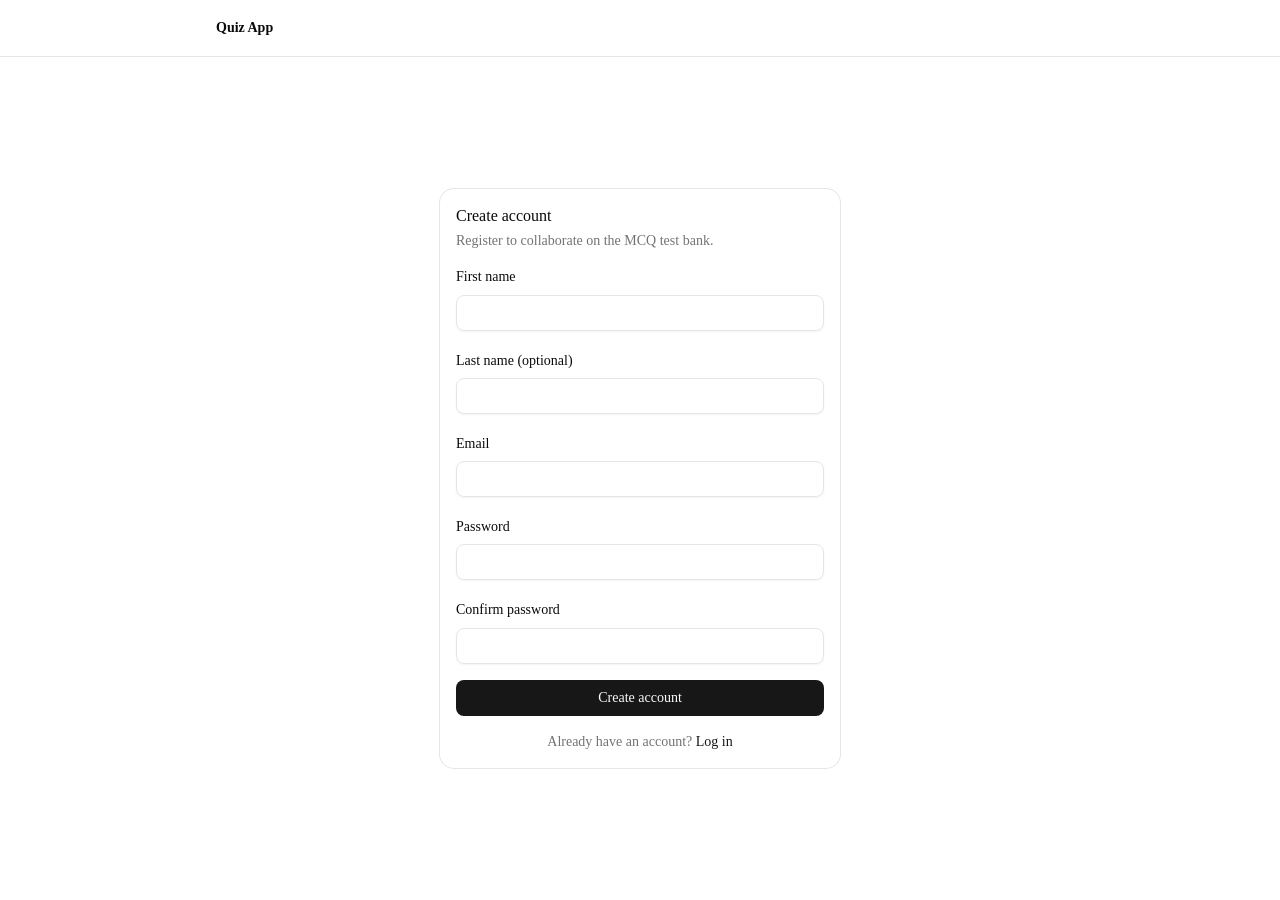
Test: RegisterForm › shows API error when registration fails
Type "Jane" into the field labelled "First name" at (640, 313), box [456,295,824,331]
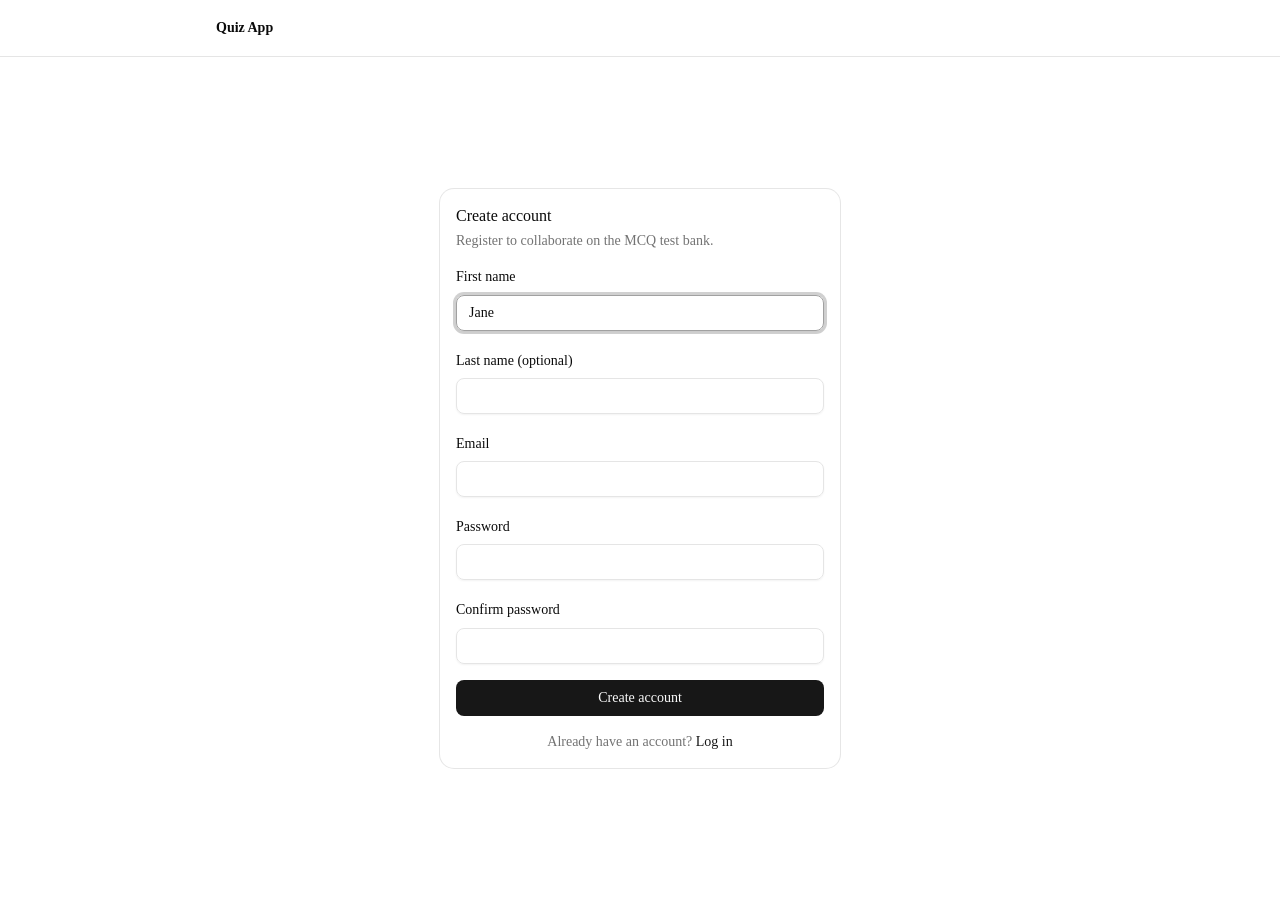
Type "jane@example.com" into the field labelled "Email" at (640, 479), box [456,461,824,497]
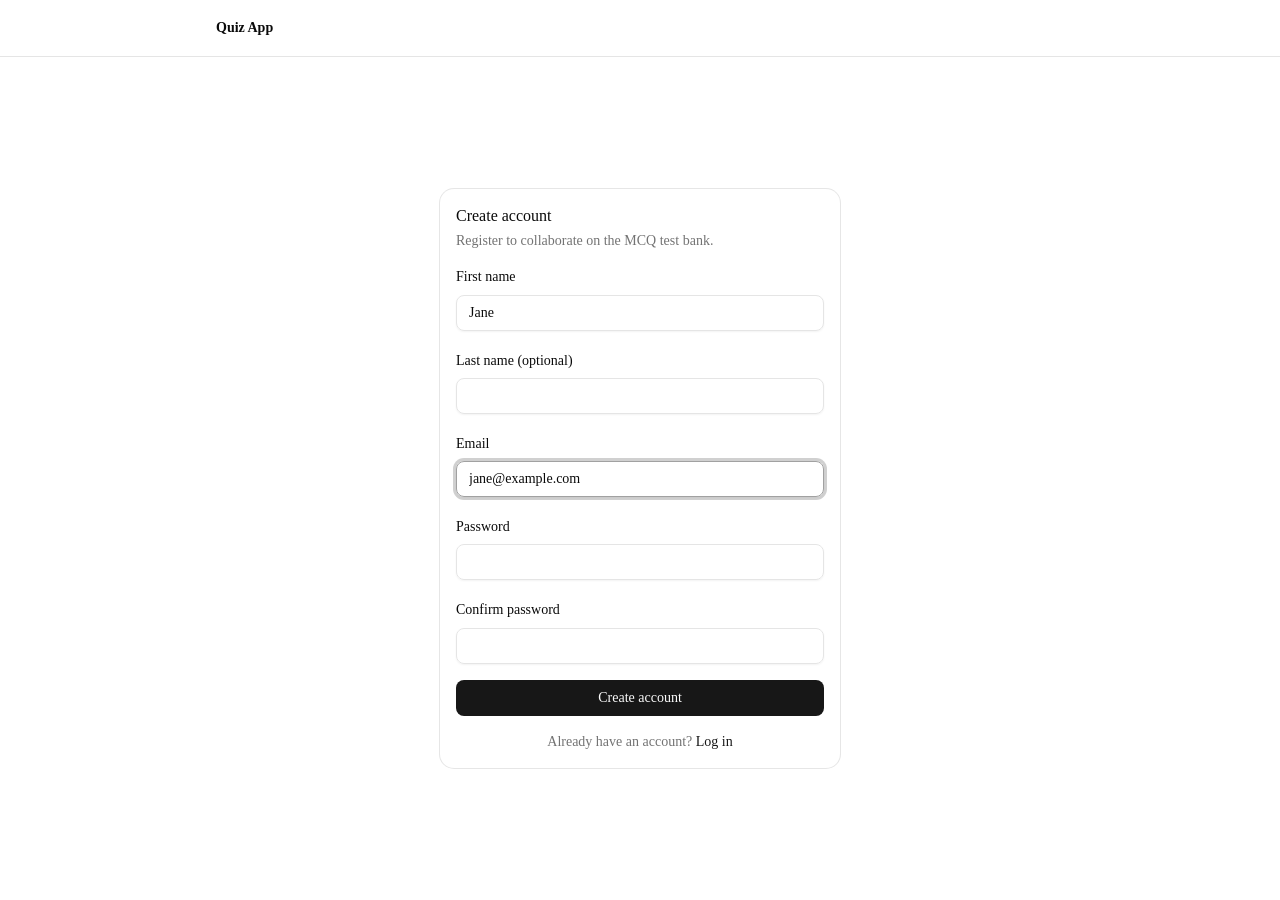
Type "securePass123" into the password field labelled "Password" at (640, 562), box [456,544,824,580]
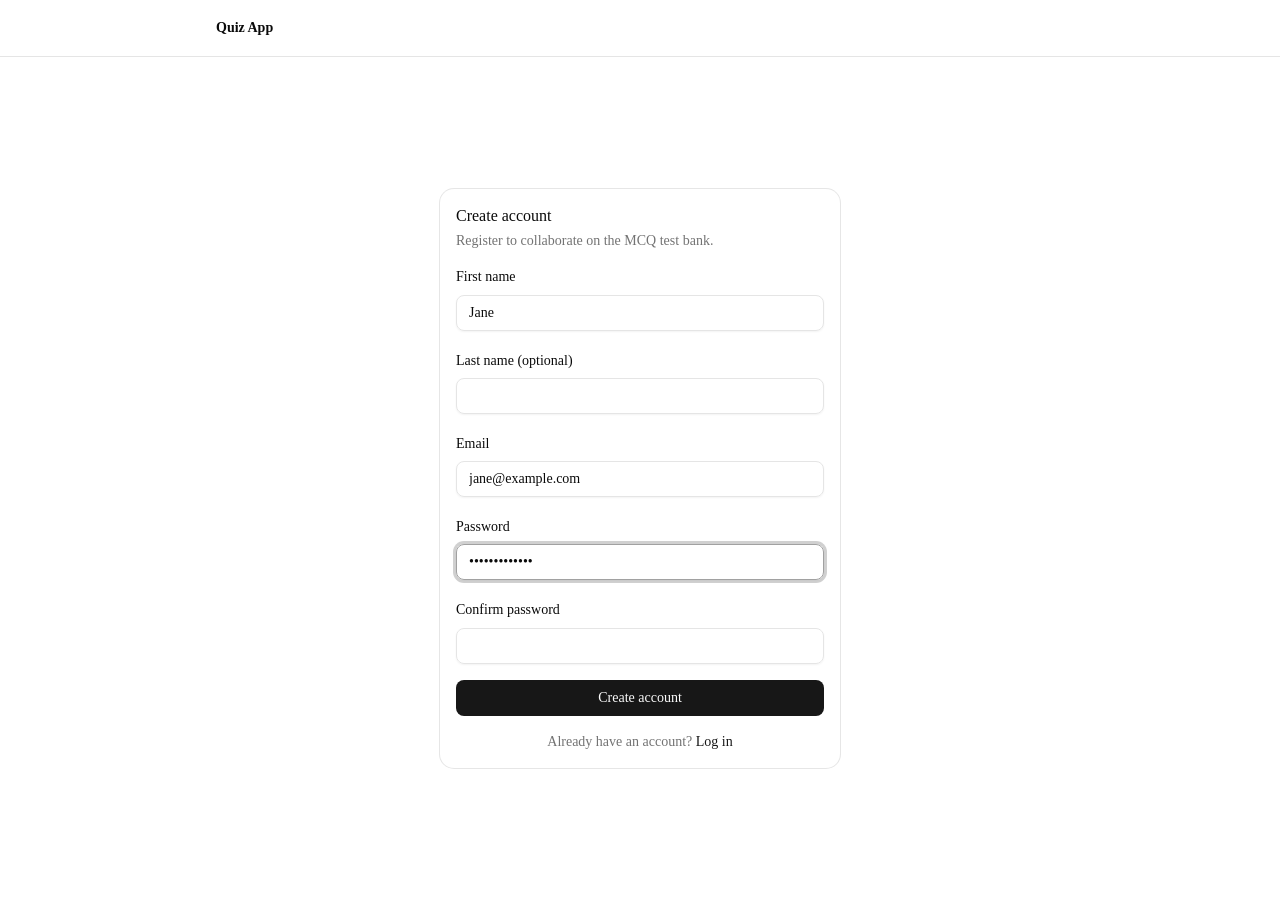
Type "securePass123" into the password field labelled "Confirm password" at (640, 646), box [456,628,824,664]
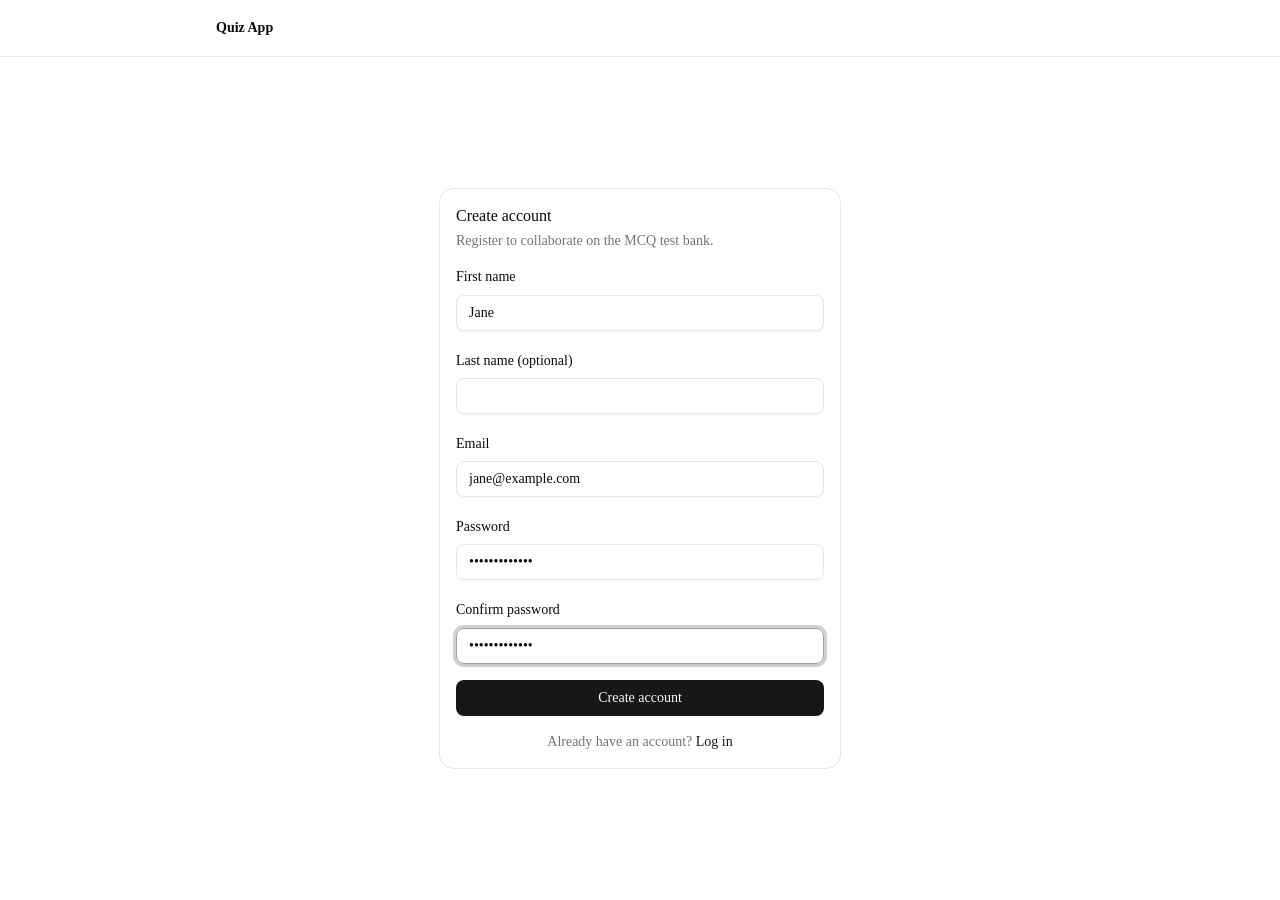
Click the button "Create account" at (640, 698), box [456,680,824,716]
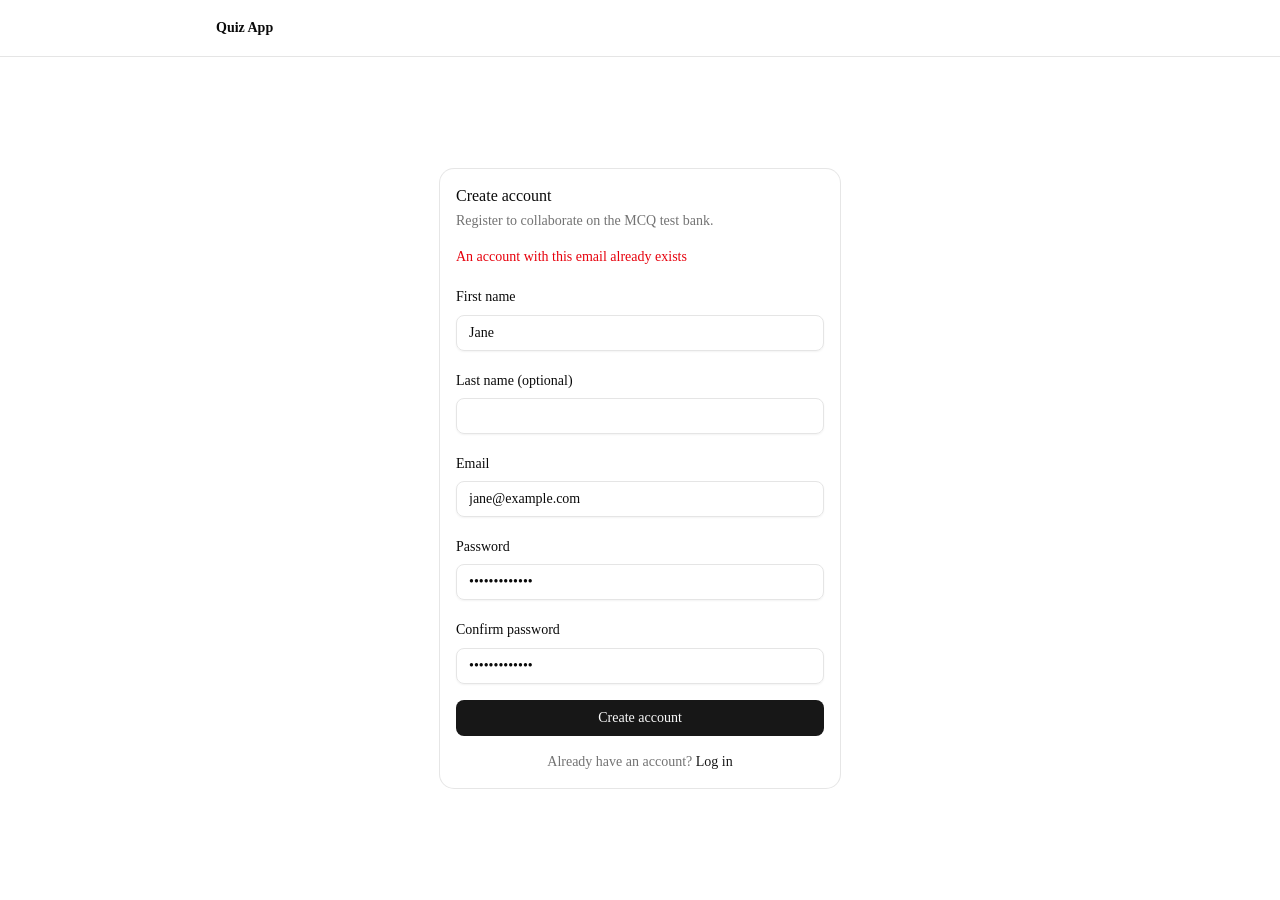
expect the message shows "already exists": met, box [456,249,687,264]
